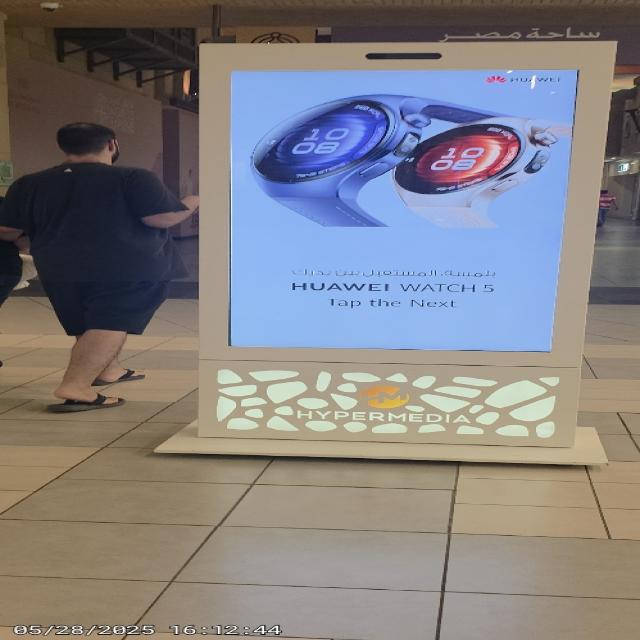mupi: (195, 42, 604, 449)
